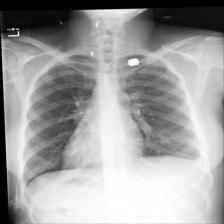normal: (18, 46, 202, 185)
